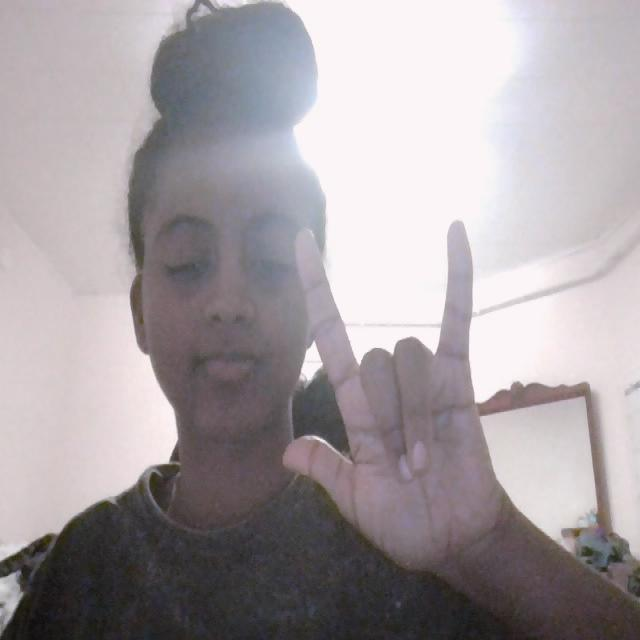iloveyou: (280, 217, 542, 584)
